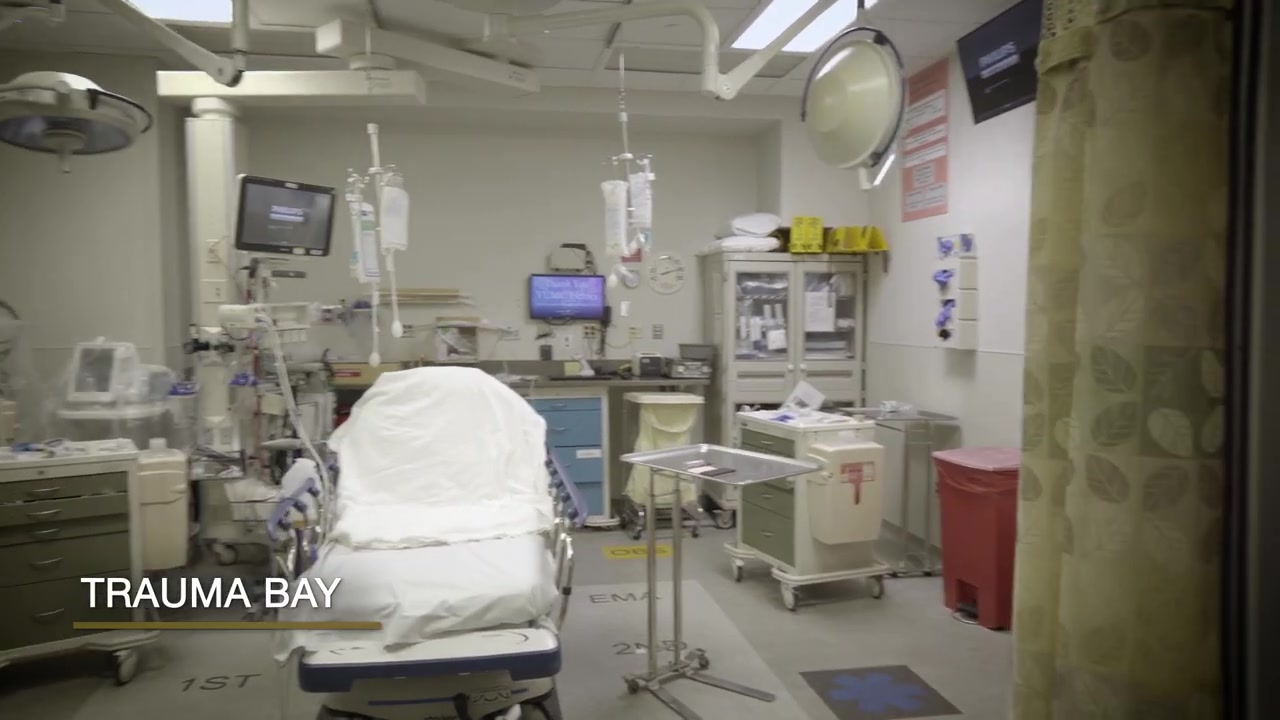TV: (955, 1, 1042, 126)
bedrail: (266, 457, 340, 581), (545, 444, 589, 630)
bedside_monitor: (235, 175, 338, 257), (76, 346, 126, 400)
cabinet: (708, 253, 872, 522)
computer: (528, 274, 607, 320)
curtain: (1011, 1, 1237, 720)
dispenser: (928, 235, 985, 352)
handle: (25, 508, 64, 517), (29, 557, 64, 566), (33, 608, 66, 617), (27, 527, 61, 535), (28, 486, 62, 494), (787, 363, 797, 379), (798, 361, 808, 375), (759, 531, 776, 537), (759, 440, 775, 446), (550, 403, 568, 408), (550, 426, 568, 431), (760, 493, 775, 499)
keyboard: (548, 375, 612, 382)
medical_drawer: (1, 438, 160, 702), (723, 408, 891, 612), (528, 395, 609, 526)
medical_waste_container: (809, 437, 884, 548)
mouse: (619, 371, 633, 380)
operating_bed: (266, 366, 589, 720)
overbed_table: (620, 432, 824, 720)
surgical_light: (798, 26, 910, 193), (1, 69, 154, 174)
utility_cart: (838, 406, 960, 577)
waste_bin: (930, 444, 1021, 631), (628, 393, 698, 534)
